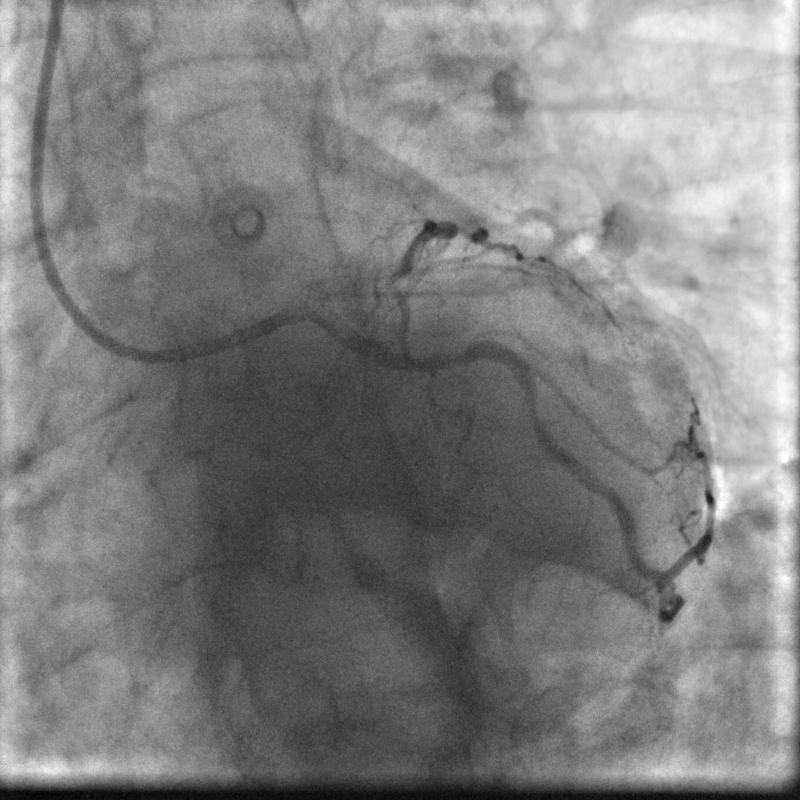Stenosis: (527, 396, 541, 423)
